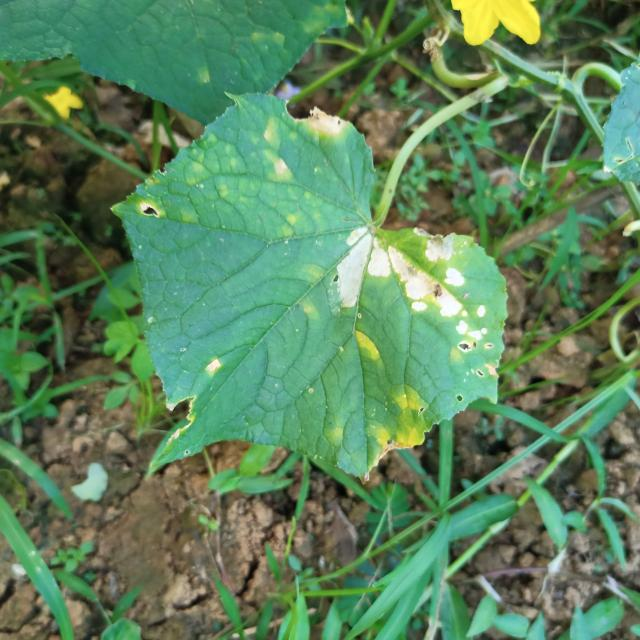disease_cucumber: (330, 212, 511, 380), (366, 383, 430, 460), (258, 120, 296, 186), (350, 326, 388, 369)
